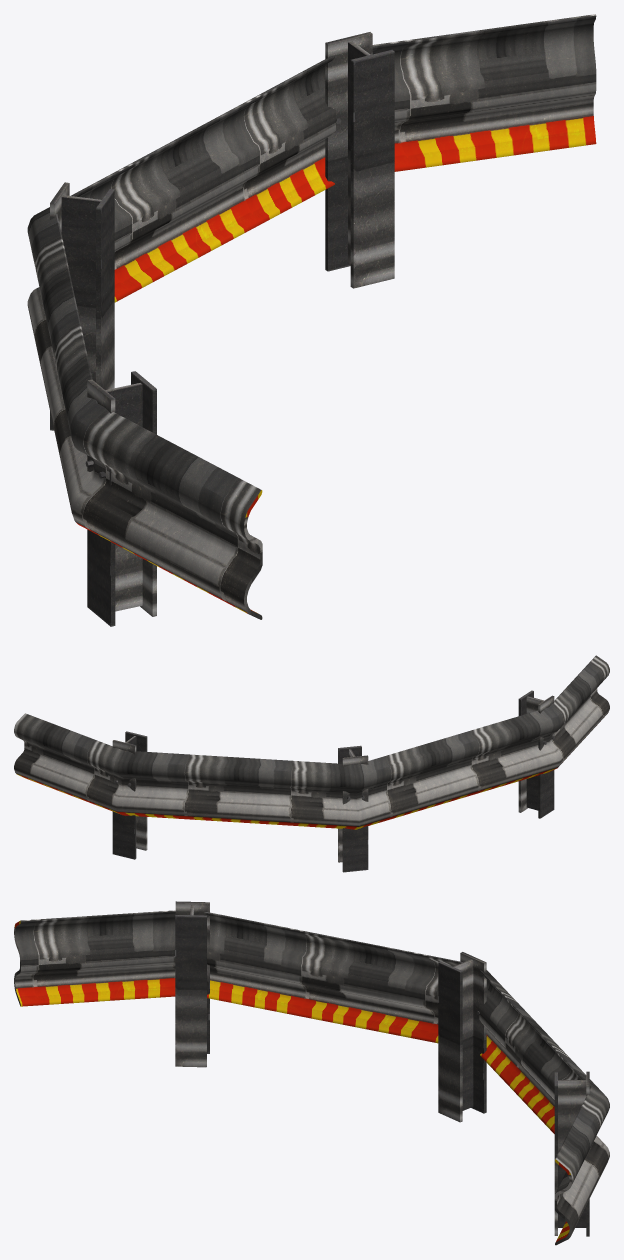
Rendered from Rail 12.FBX.
3 views of the same model, one above another, from view 1: azimuth 30°, elevation 25°; view 2: azimuth 150°, elevation 25°; view 3: azimuth 270°, elevation 25° (orthographic). The views are drawn at different scales.
Parts seen in each view (by area): view 1: guardrail_small_135deg_out; view 2: guardrail_small_135deg_out; view 3: guardrail_small_135deg_out.
Boxes of the visible parts, x1,y1,x2,y2 form: guardrail_small_135deg_out: [27, 14, 596, 626]; guardrail_small_135deg_out: [14, 655, 609, 872]; guardrail_small_135deg_out: [14, 901, 609, 1245].
Bounding box in the file's own units: 375 × 101 × 362.
